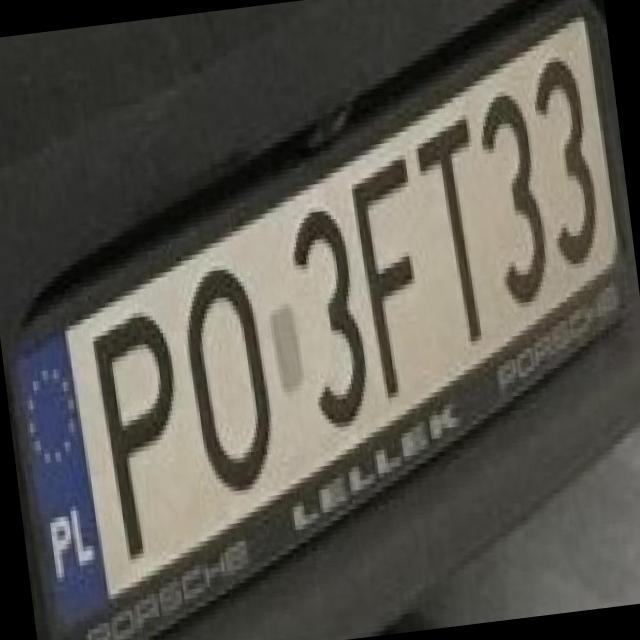0: (162, 247, 288, 500)
3: (274, 189, 378, 435), (464, 74, 556, 306), (516, 40, 608, 267)
F: (336, 144, 438, 396)
P: (72, 294, 206, 568)
T: (404, 108, 500, 346)
